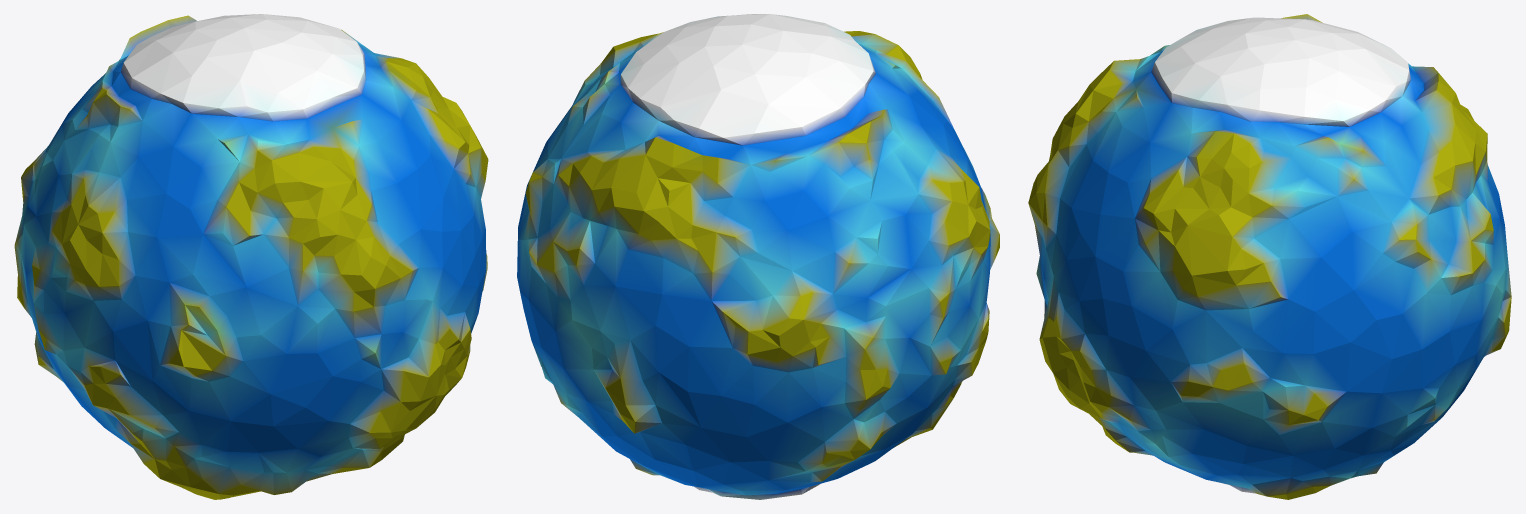
Rendered from planet_48.fbx.
3 views of the same model, side by side, from view 1: azimuth 30°, elevation 25°; view 2: azimuth 150°, elevation 25°; view 3: azimuth 270°, elevation 25° (orthographic). The views are drawn at different scales.
Parts seen in each view (by area): view 1: file1; view 2: file1; view 3: file1.
Part boxes in pixels (bbox=[...]): file1: bbox=[14, 14, 488, 499]; file1: bbox=[517, 14, 999, 499]; file1: bbox=[1028, 14, 1511, 499].
Size of the model in its own units: 2.03 by 2.05 by 2.08.
